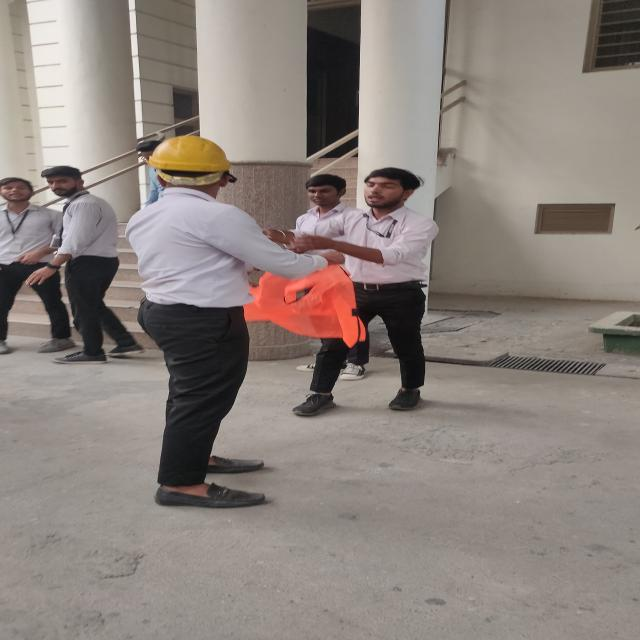no jacket: (127, 138, 332, 510)
unsafe: (342, 168, 438, 417), (42, 166, 144, 365), (298, 174, 369, 381), (2, 179, 69, 359)
